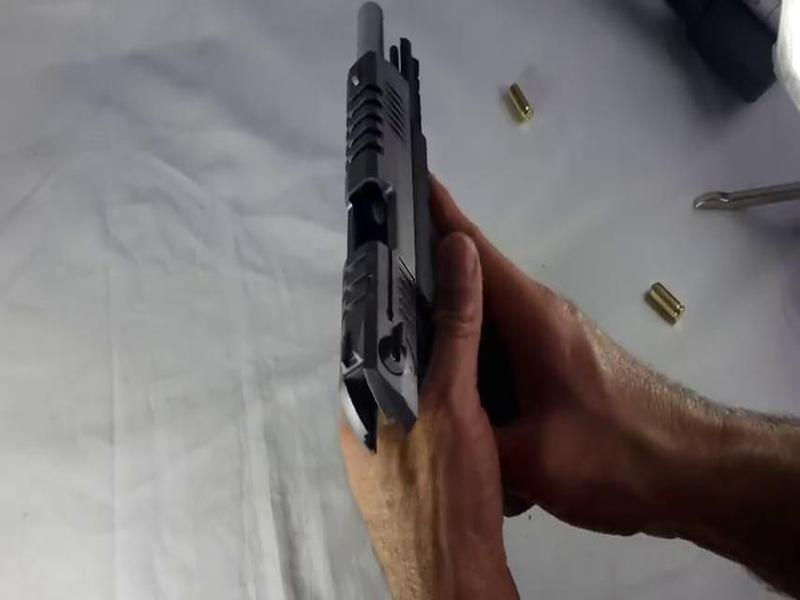Pistola: (309, 1, 485, 457)
